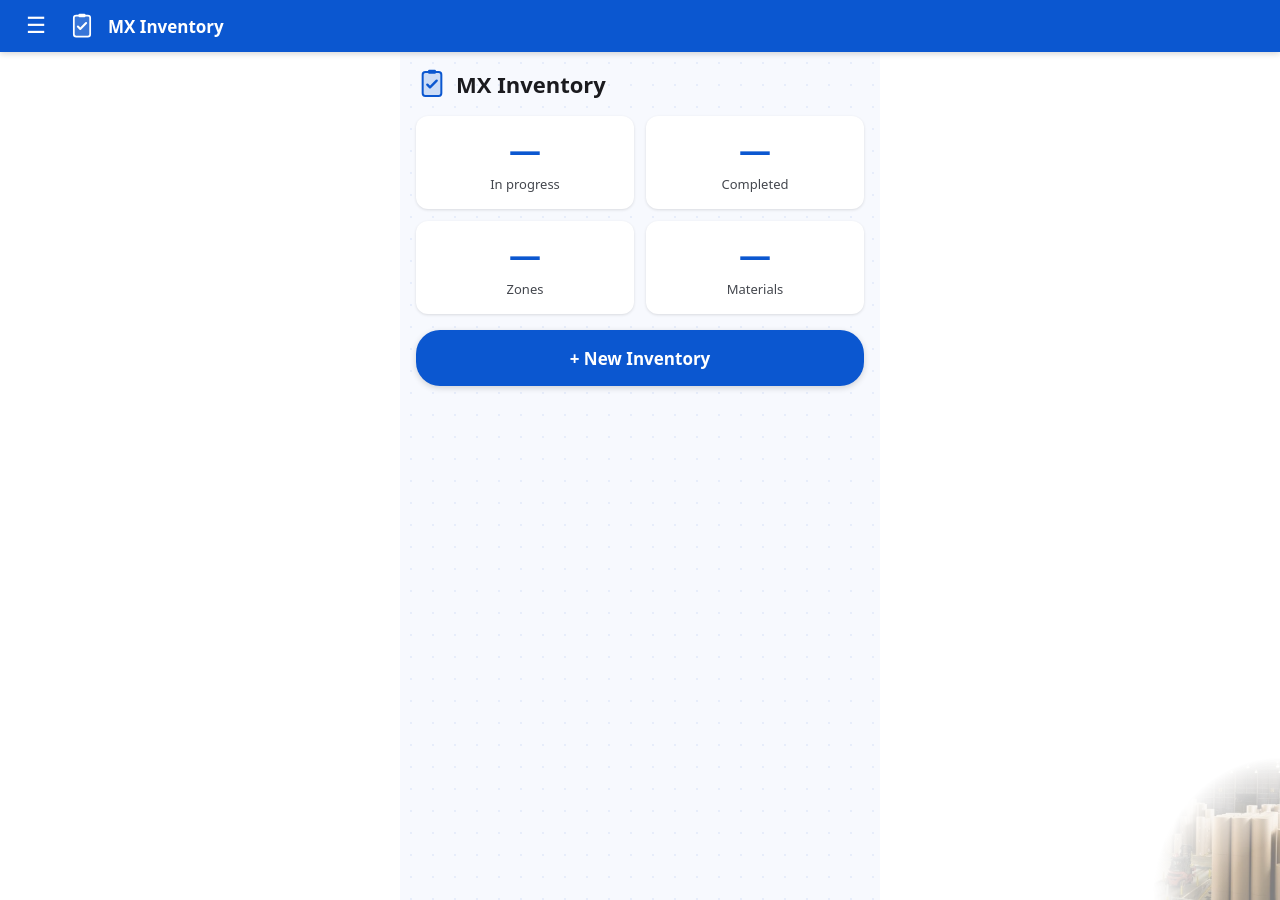
Scenario: App › reveals the rest of the navigation via the hamburger drawer
Click the button named "open menu": click(36, 26) [16,6,56,46]
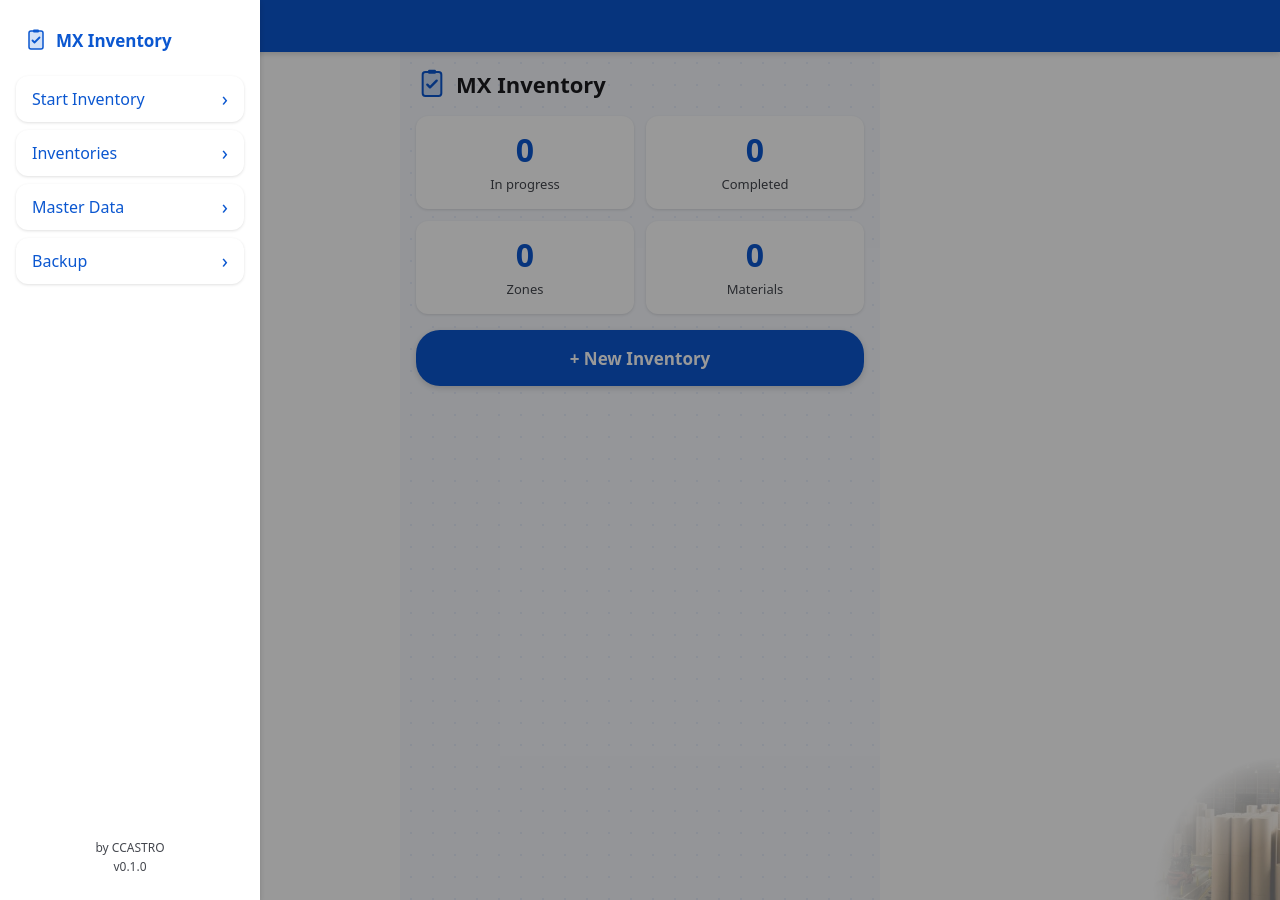
Check: the link "Master Data" is shown, box [32,196,124,218]
Check: the link "Inventories" is shown, box [32,142,117,164]
Check: the link "Backup" is shown, box [32,250,87,272]
